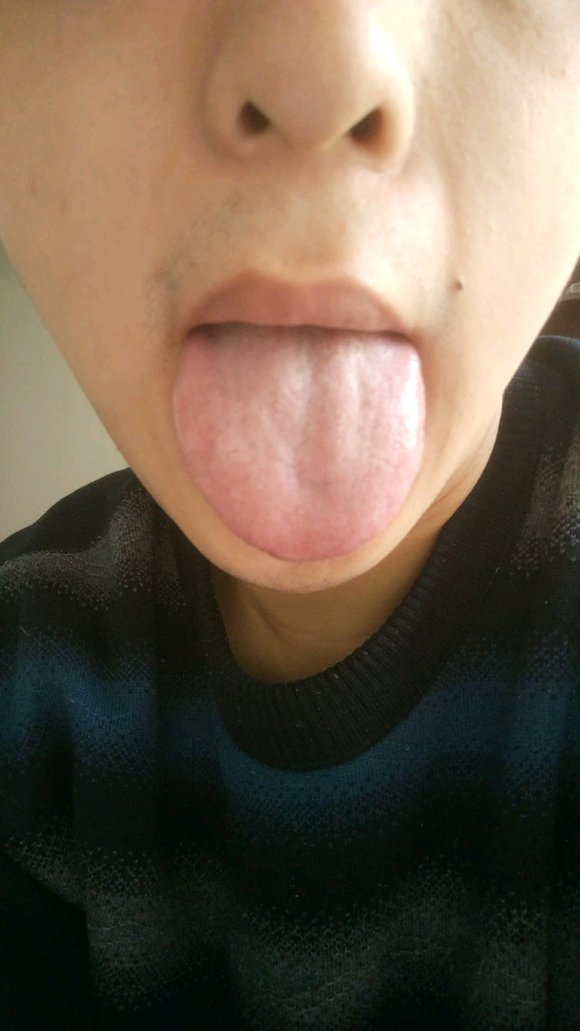pangdashe: (171, 325, 425, 562)
